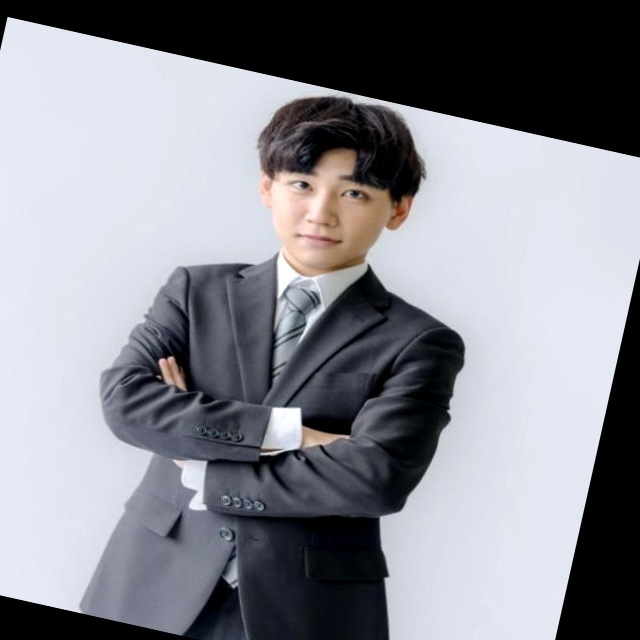Sin_Casco_Mascarrilla: (232, 78, 440, 288)
Sin_Chaleco: (108, 239, 470, 610)
